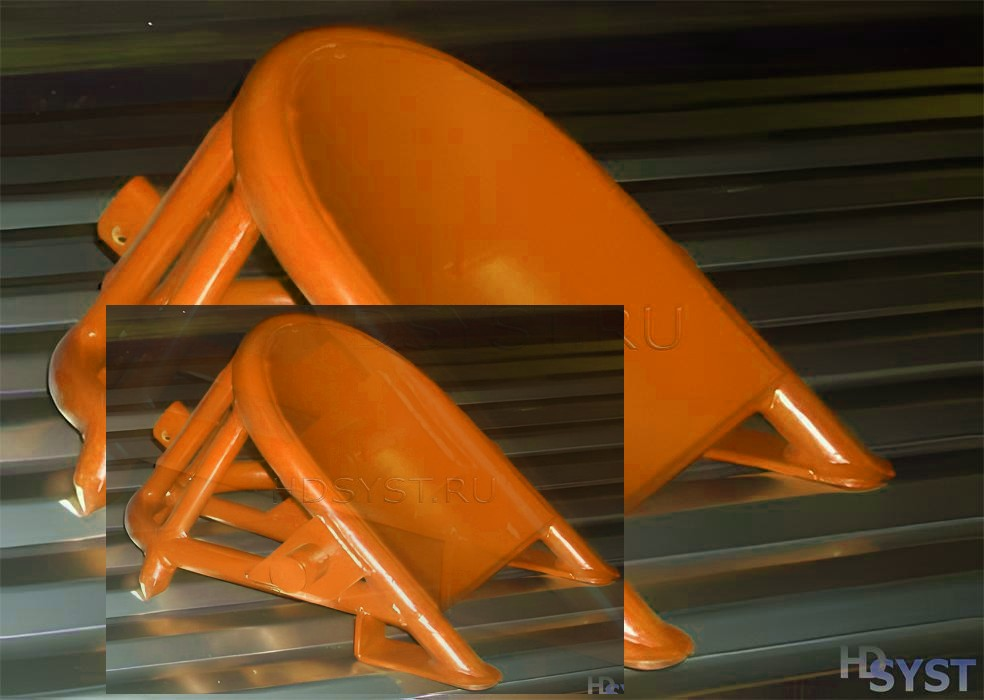chock: (17, 13, 903, 676), (106, 305, 624, 694)
